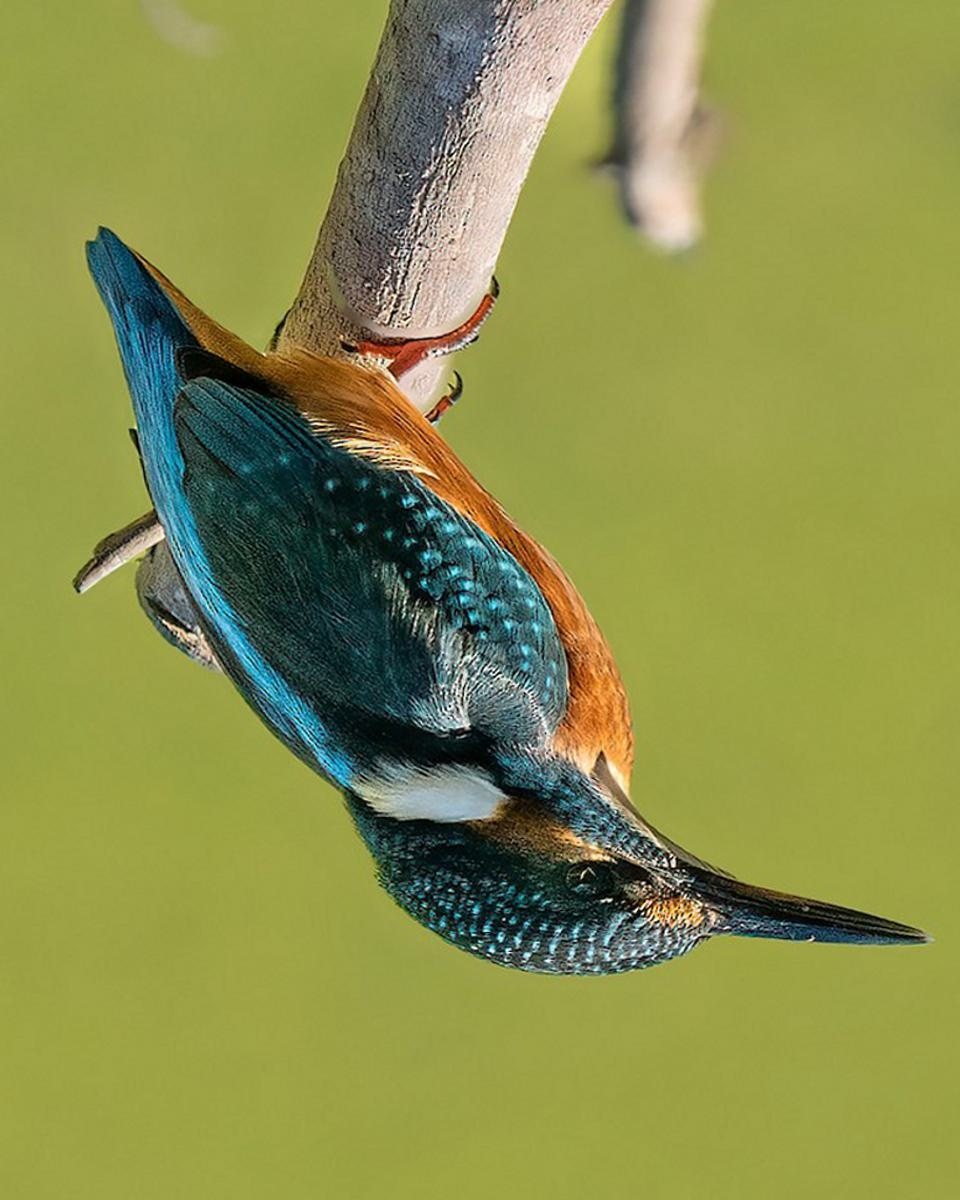kingfisher: (97, 207, 960, 1050)
